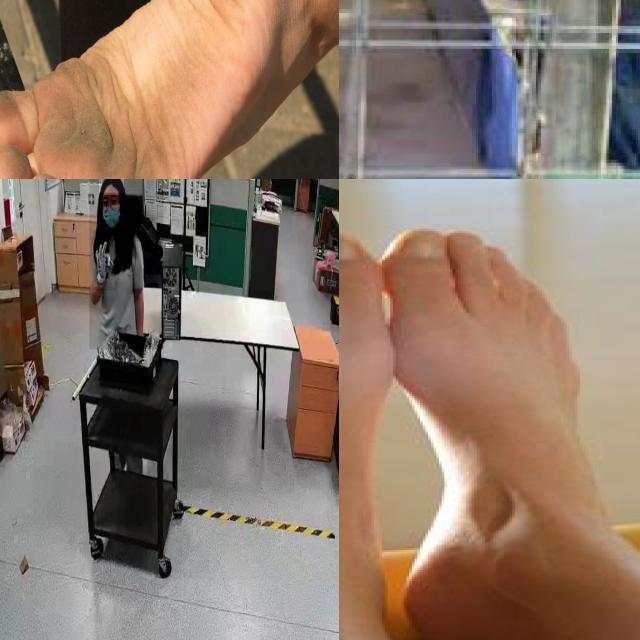Barefoots: (339, 231, 594, 640), (0, 0, 323, 179)
face_mask: (100, 194, 123, 237)
glasses: (98, 195, 122, 214)
hand_glove: (91, 238, 117, 292)
head_nohelmet: (99, 179, 124, 193)
person: (89, 179, 164, 350)
